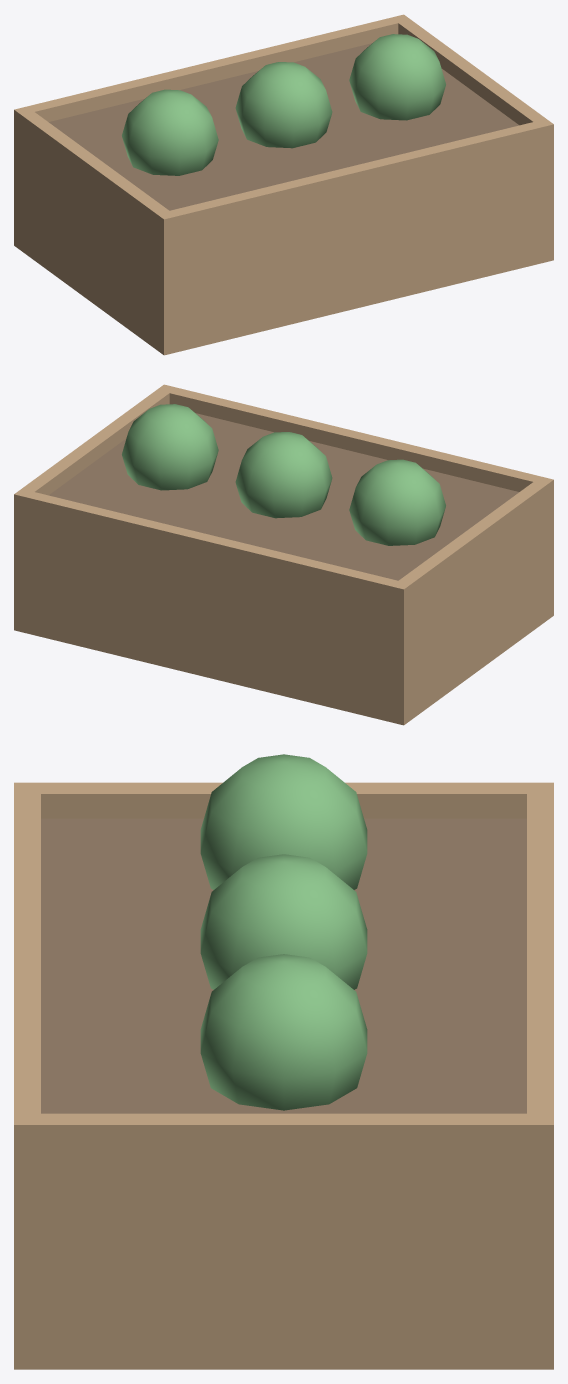
File: raised-bed.glb
3 renders of one model, top to bottom at view 1: azimuth 30°, elevation 25°; view 2: azimuth 150°, elevation 25°; view 3: azimuth 270°, elevation 25°, orthographic. The views are drawn at different scales.
Visible parts, largest first — view 1: Side (×2), End (×2), Soil, Plant (×3); view 2: Side (×2), End (×2), Soil, Plant (×3); view 3: End (×2), Soil, Plant (×3), Side (×2).
Boxes of the visible parts, box(x1,y1,x2,y2) form: Side (×2): box(14, 14, 553, 355); End (×2): box(21, 20, 545, 349); Soil: box(48, 43, 519, 210); Plant (×3): box(122, 34, 445, 175); Side (×2): box(14, 384, 553, 725); End (×2): box(22, 390, 546, 719); Soil: box(48, 413, 519, 580); Plant (×3): box(122, 404, 445, 545); End (×2): box(41, 782, 526, 1369); Soil: box(41, 818, 526, 1113); Plant (×3): box(200, 754, 367, 1110); Side (×2): box(14, 782, 553, 1369).
Bounding box in the file's own units: 1.2 × 0.55 × 0.8.
